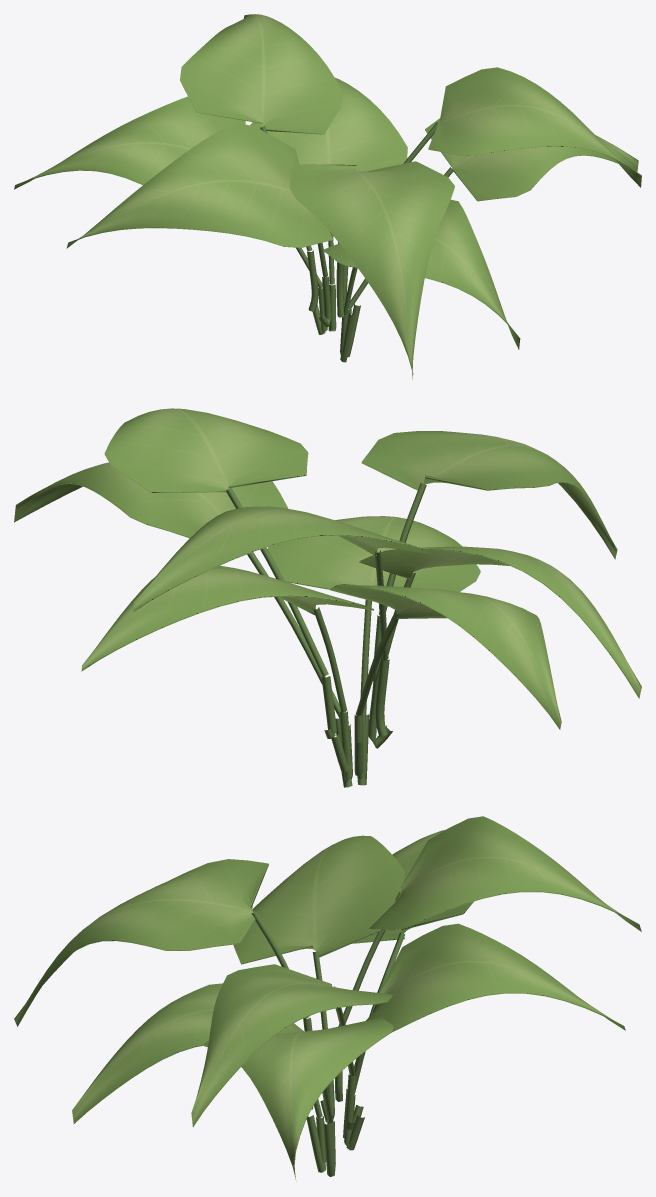
The model's file is syngonium-stage-3.glb.
3 views of the same model, one above another, from view 1: azimuth 30°, elevation 25°; view 2: azimuth 150°, elevation 25°; view 3: azimuth 270°, elevation 25° (orthographic). The views are drawn at different scales.
Visible parts, largest first — view 1: Leaf_2, Leaf_5, Leaf_7, Leaf_6, Leaf_4, Leaf_1, Leaf_3, Leaf_0, PlantBranches; view 2: Leaf_6, Leaf_5, PlantBranches, Leaf_4, Leaf_7, Leaf_0, Leaf_1, Leaf_3, Leaf_2; view 3: Leaf_2, Leaf_7, Leaf_5, Leaf_1, Leaf_6, Leaf_3, Leaf_0, PlantBranches, Leaf_4.
Boxes of the visible parts, bbox=[...] form: Leaf_2: bbox=[66, 123, 332, 248]; Leaf_5: bbox=[290, 161, 454, 379]; Leaf_7: bbox=[180, 14, 342, 134]; Leaf_6: bbox=[428, 67, 641, 187]; Leaf_4: bbox=[14, 96, 245, 189]; Leaf_1: bbox=[250, 77, 407, 171]; Leaf_3: bbox=[425, 118, 638, 201]; Leaf_0: bbox=[323, 199, 520, 349]; PlantBranches: bbox=[260, 122, 453, 362]; Leaf_6: bbox=[104, 408, 308, 493]; Leaf_5: bbox=[361, 431, 617, 559]; PlantBranches: bbox=[226, 483, 426, 787]; Leaf_4: bbox=[330, 584, 561, 729]; Leaf_7: bbox=[133, 506, 431, 612]; Leaf_0: bbox=[267, 516, 480, 592]; Leaf_1: bbox=[81, 565, 373, 671]; Leaf_3: bbox=[14, 462, 288, 538]; Leaf_2: bbox=[359, 546, 641, 698]; Leaf_2: bbox=[233, 835, 405, 964]; Leaf_7: bbox=[369, 816, 641, 931]; Leaf_5: bbox=[14, 859, 268, 1026]; Leaf_1: bbox=[366, 923, 625, 1032]; Leaf_6: bbox=[191, 964, 393, 1127]; Leaf_3: bbox=[203, 1017, 393, 1180]; Leaf_0: bbox=[72, 983, 303, 1123]; PlantBranches: bbox=[251, 892, 405, 1176]; Leaf_4: bbox=[352, 830, 473, 943].
Size of the model in its own units: 2.03 by 0.9996 by 1.82.
2 materials, 1 textured.
